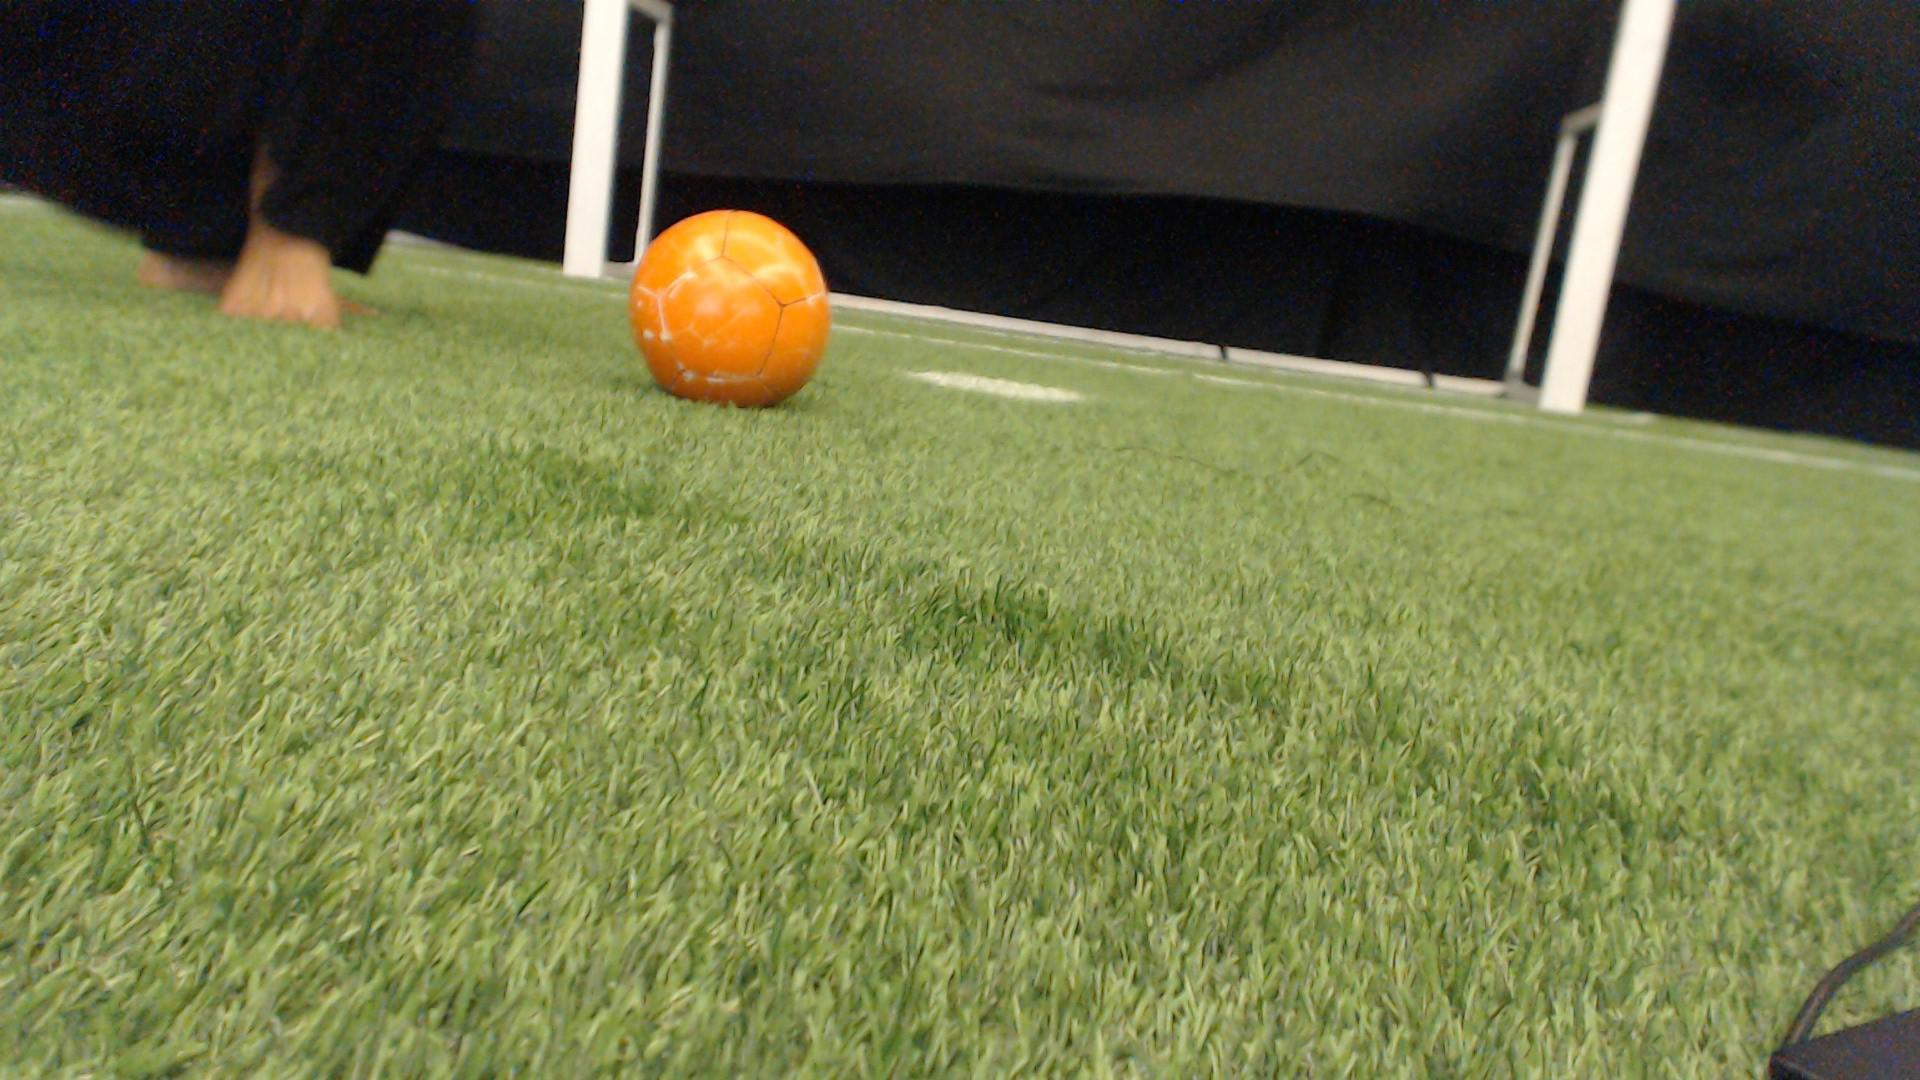bola: (608, 179, 861, 444)
